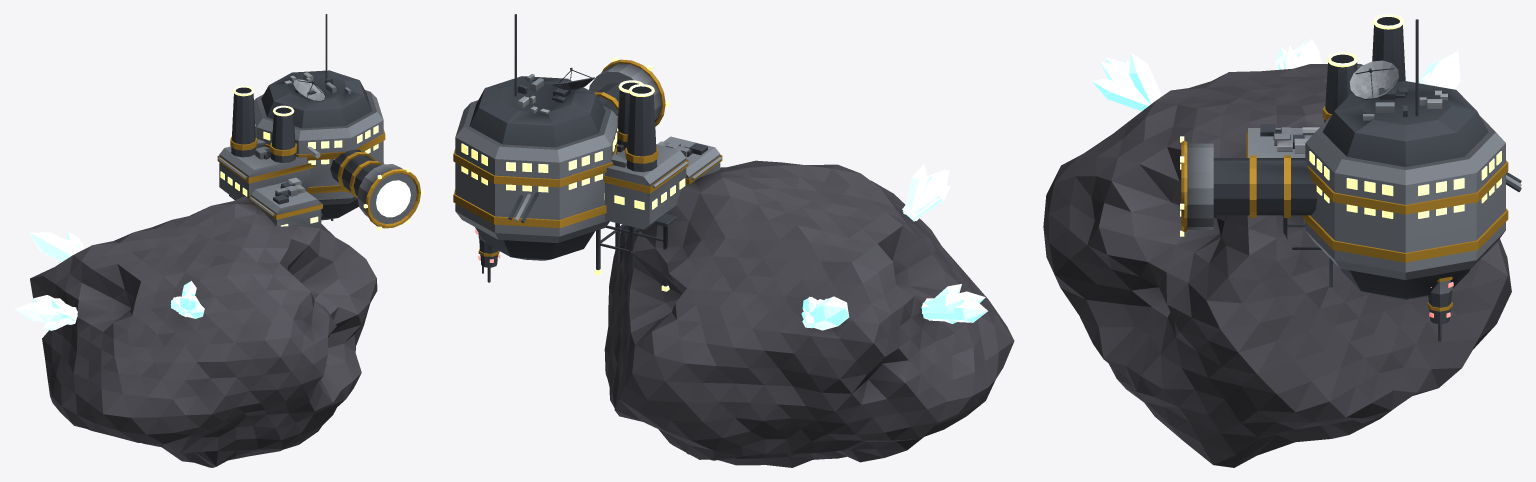
Rendered from station_l1.glb.
3 views of the same model, side by side, from view 1: azimuth 30°, elevation 25°; view 2: azimuth 150°, elevation 25°; view 3: azimuth 270°, elevation 25° (orthographic). The views are drawn at different scales.
Parts seen in each view (by area): view 1: station_l1; view 2: station_l1; view 3: station_l1.
Part boxes in pixels (box(x1,y1,x2,y2)): station_l1: box(14, 14, 424, 467); station_l1: box(453, 14, 1014, 467); station_l1: box(1043, 14, 1521, 467).
Bounding box in the file's own units: 23.08 × 20.28 × 16.68.
